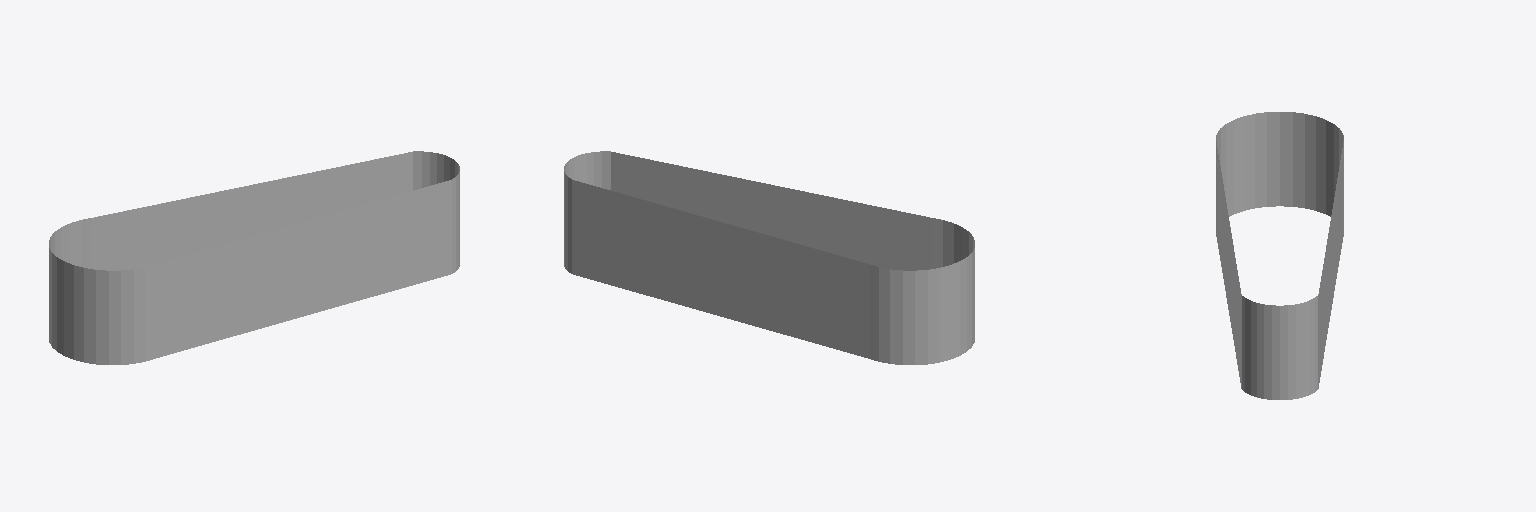
File: c_paddle.obj
3 views of the same model, side by side, from view 1: azimuth 30°, elevation 25°; view 2: azimuth 150°, elevation 25°; view 3: azimuth 270°, elevation 25° (orthographic).
Parts seen in each view (by area): view 1: Circle; view 2: Circle; view 3: Circle.
Boxes of the visible parts, x1,y1,x2,y2 form: Circle: [49, 151, 459, 364]; Circle: [564, 151, 974, 364]; Circle: [1216, 112, 1343, 399].
Bounding box in the file's own units: 8.81 × 2.01 × 2.47.